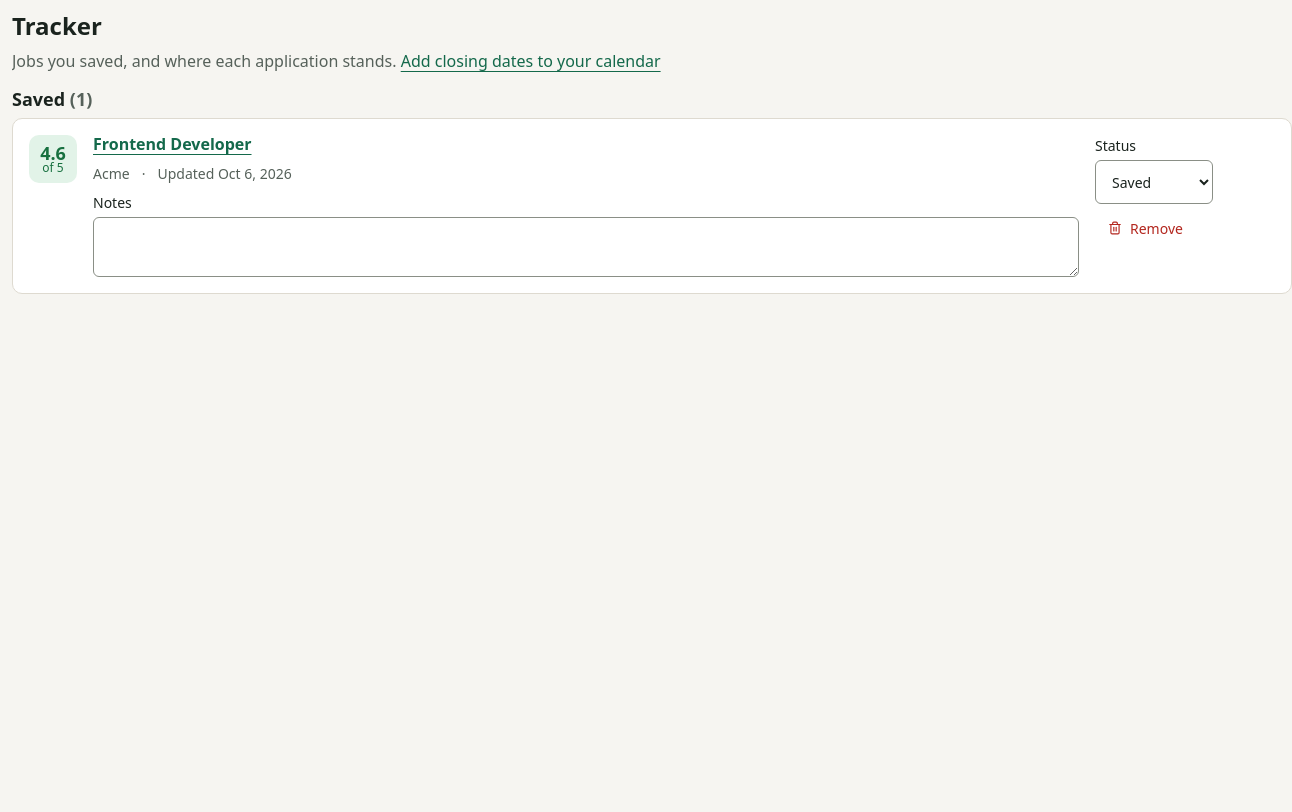
Test: TrackerPage › removes an application and confirms it
Click the button with aria-label "Remove Frontend Developer from tracker".
click(1145, 228)  # box 1095,212 -> 1196,244
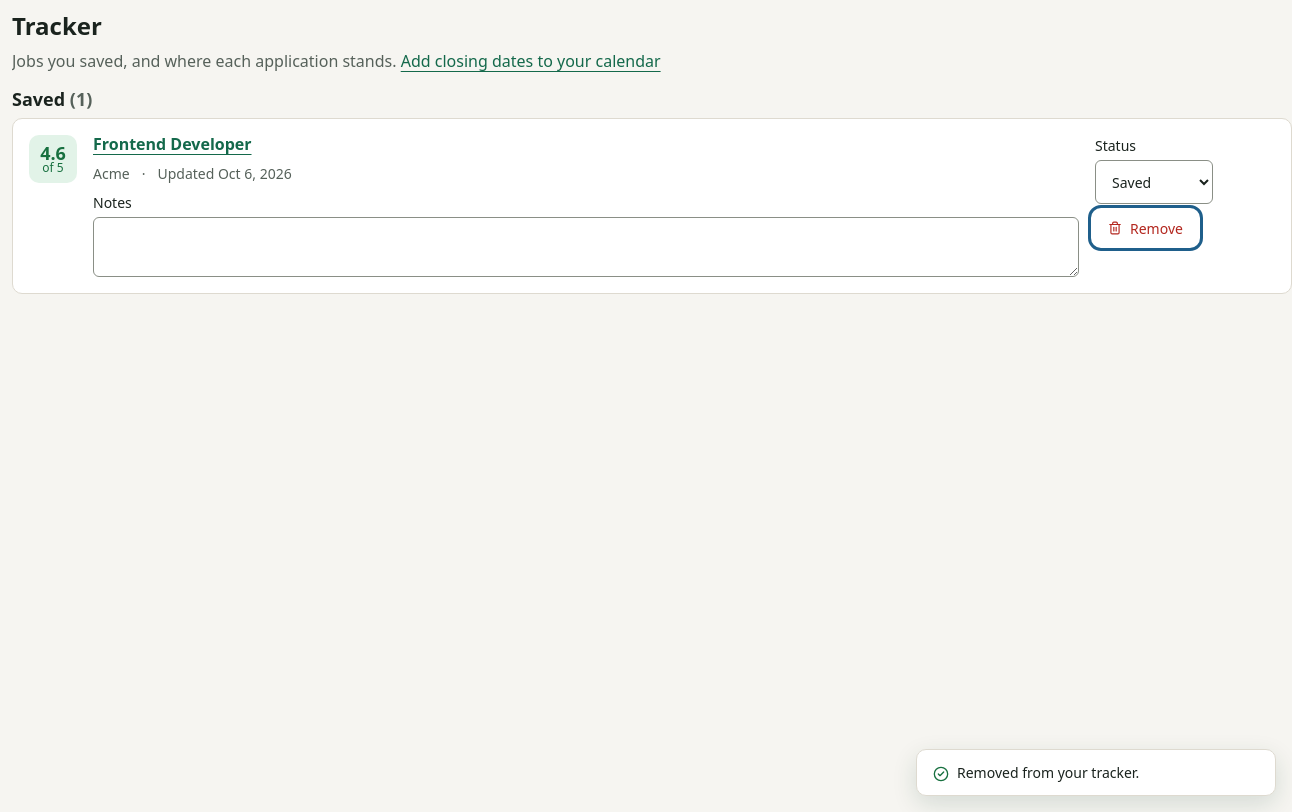
Result: the text "Removed from your tracker." is shown at 957,762 -> 1139,783
